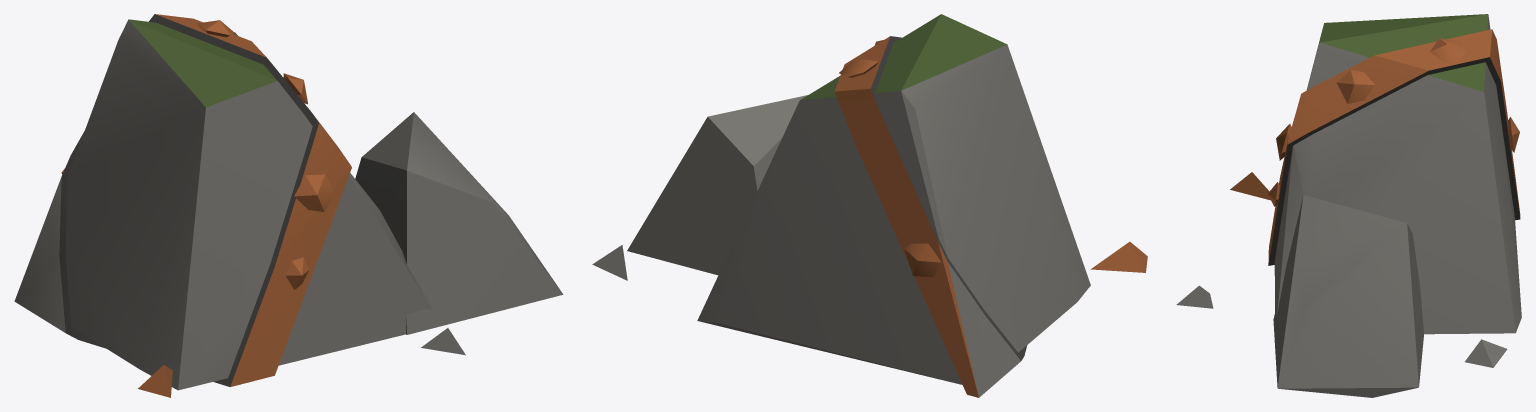
The model's file is MiningBoulderB.fbx.
3 views of the same model, side by side, from view 1: azimuth 30°, elevation 25°; view 2: azimuth 150°, elevation 25°; view 3: azimuth 270°, elevation 25° (orthographic). The views are drawn at different scales.
Parts seen in each view (by area): view 1: MiningBoulderB; view 2: MiningBoulderB; view 3: MiningBoulderB.
Part boxes in pixels (<box>): MiningBoulderB: <box>14,14,563,397</box>; MiningBoulderB: <box>592,14,1147,397</box>; MiningBoulderB: <box>1176,14,1521,397</box>.
Bounding box in the file's own units: 1.46 × 0.8937 × 1.13.
